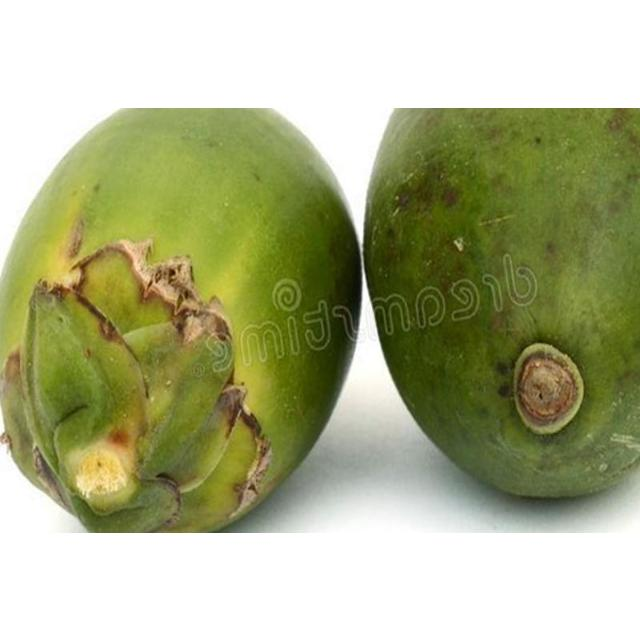good: (0, 108, 362, 532), (363, 107, 639, 501)
